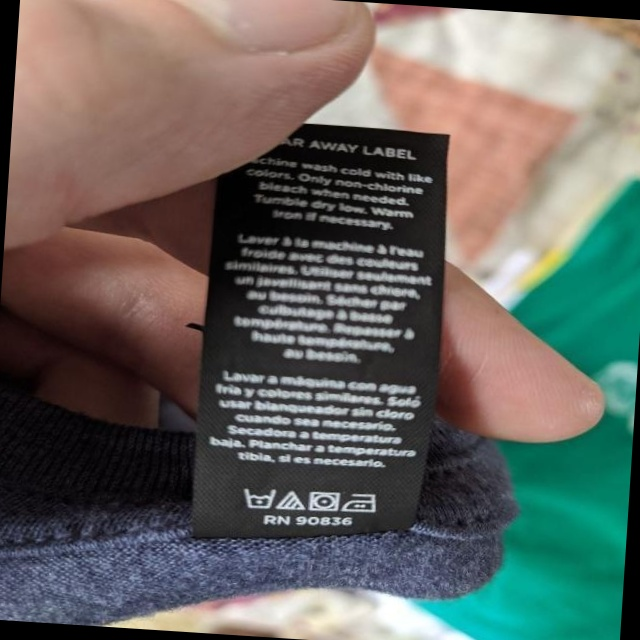30C: (244, 484, 276, 511)
iron_medium: (343, 491, 382, 518)
non_chlorine_bleach: (278, 490, 308, 514)
tumble_dry_low: (308, 490, 345, 517)
